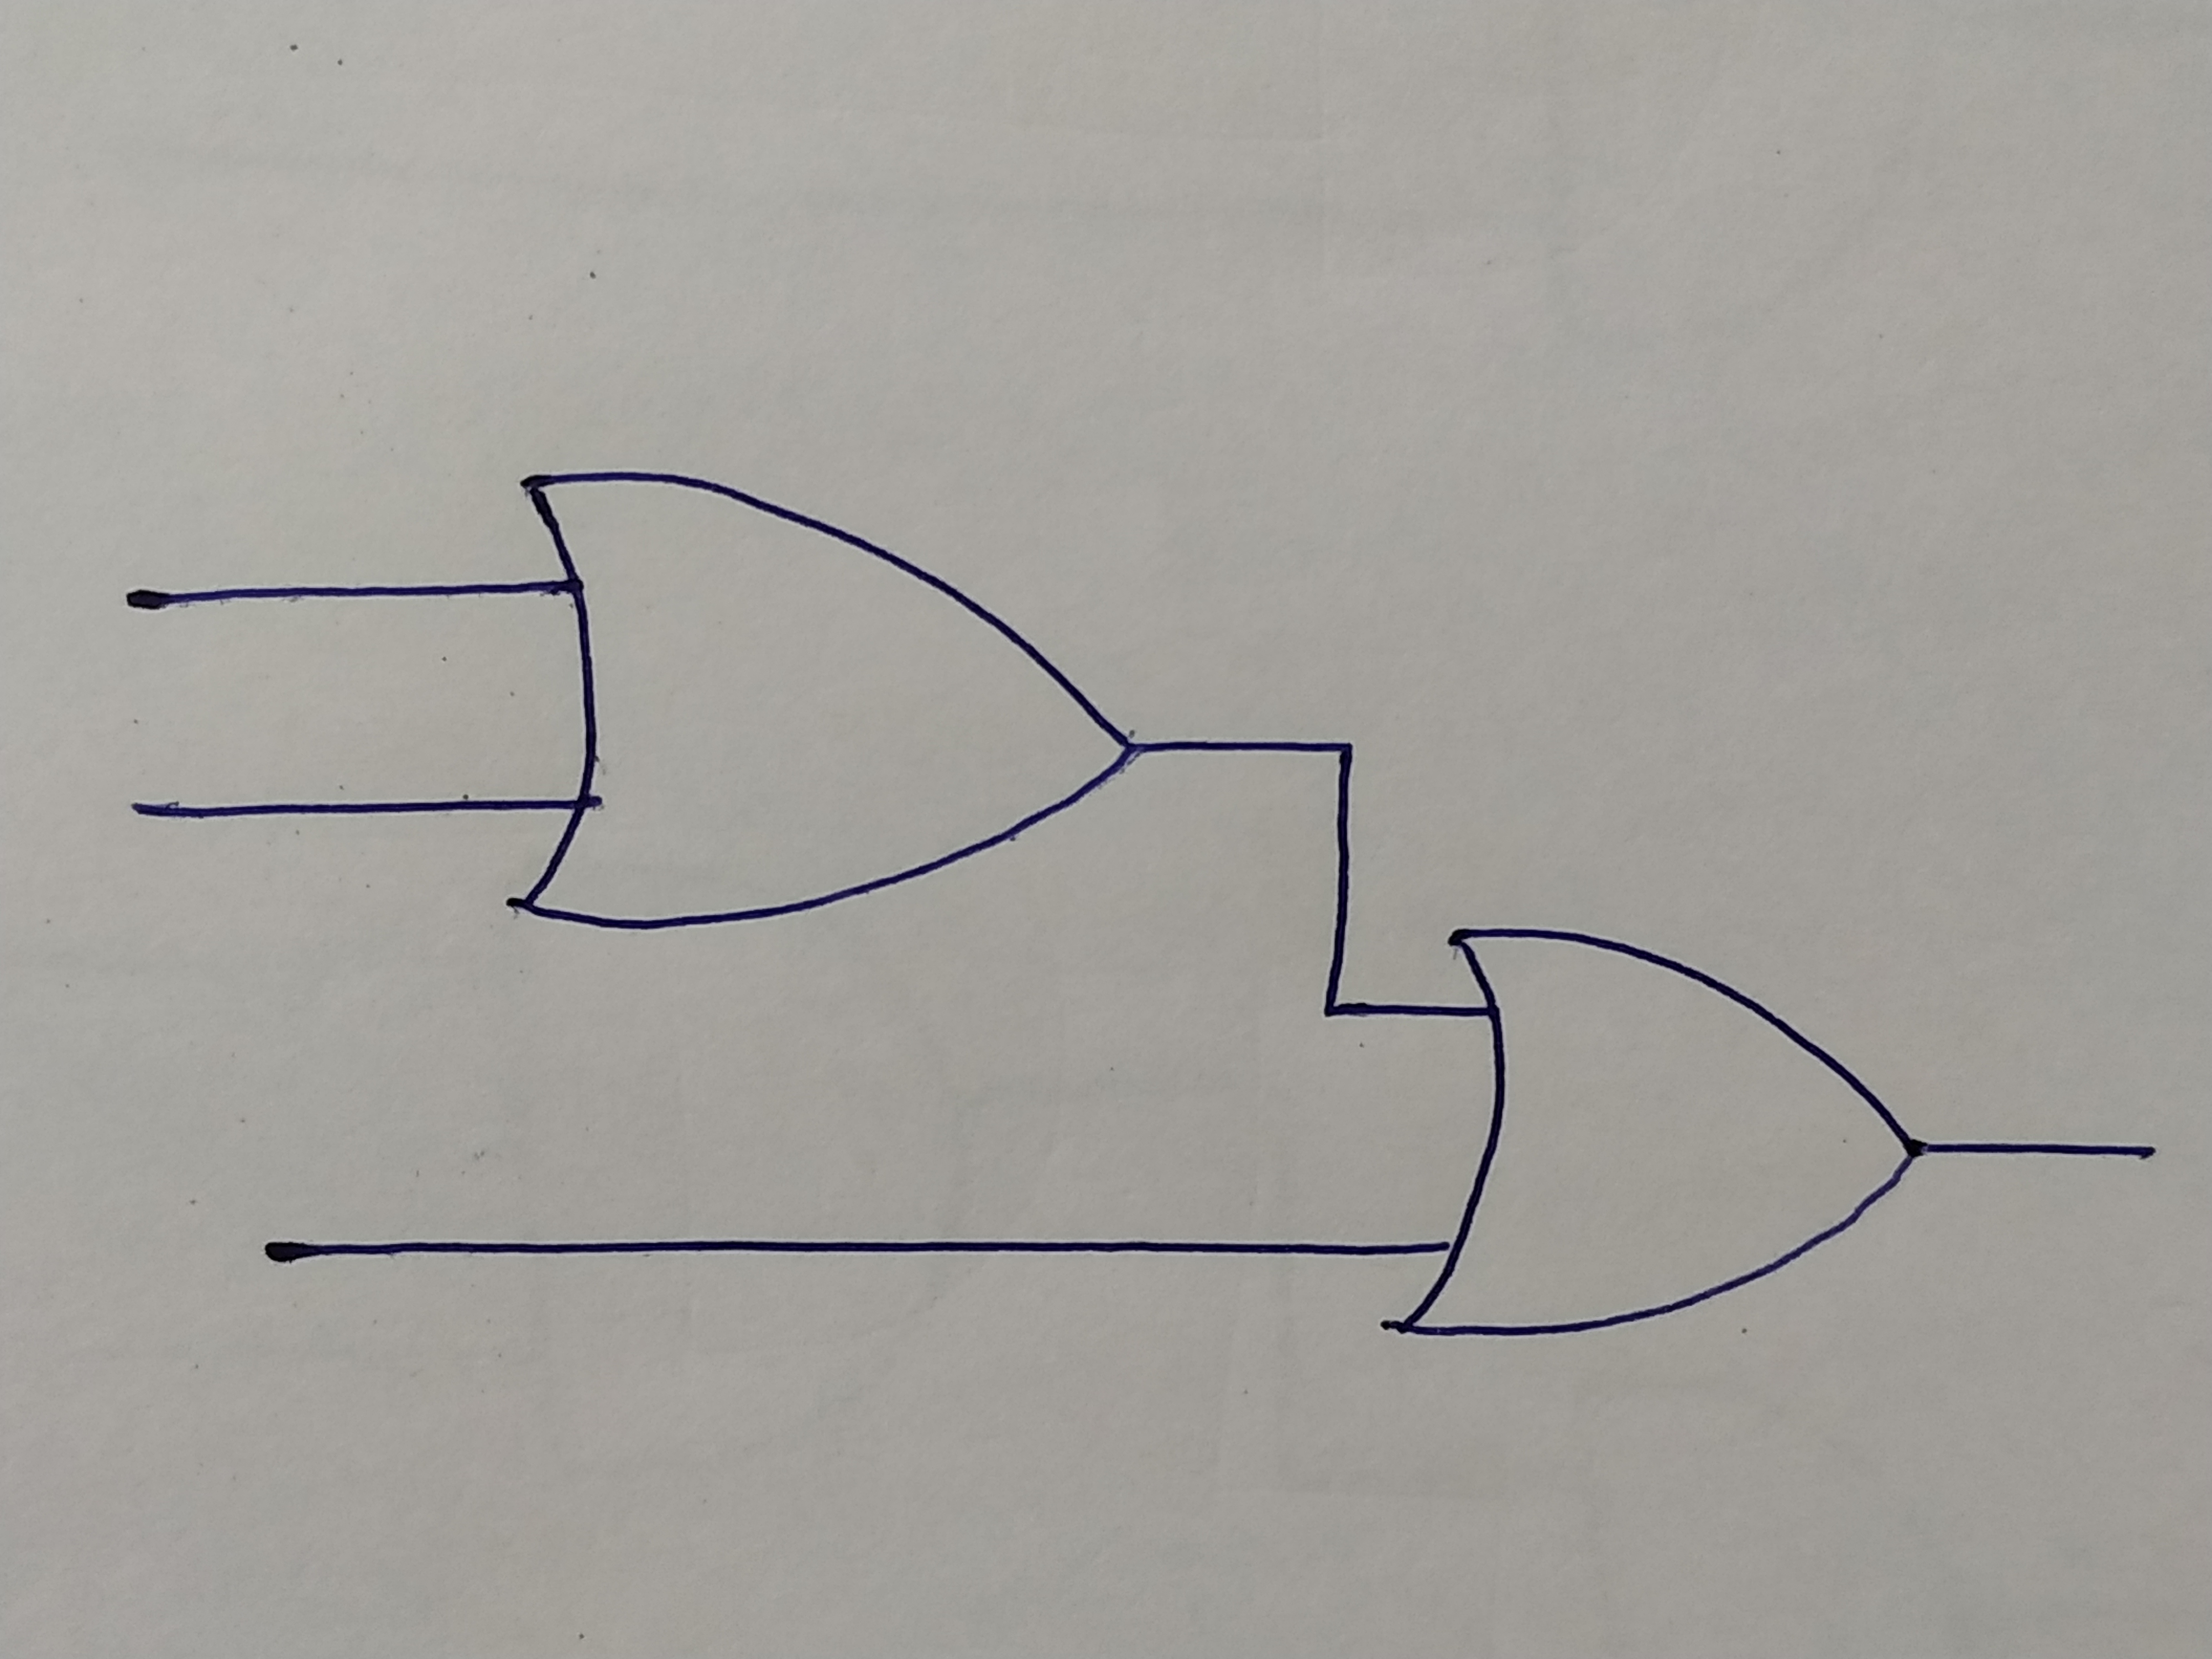or: (512, 465, 1136, 941), (1392, 927, 1919, 1333)
